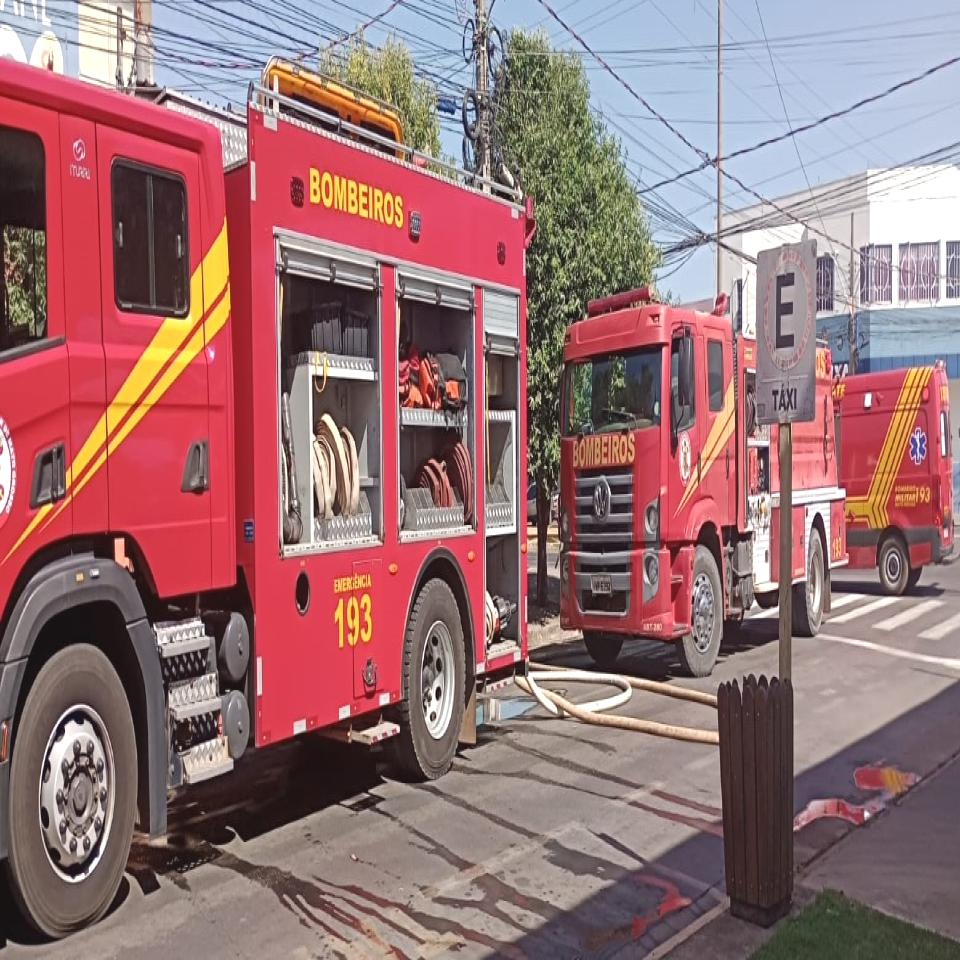bombeiro: (0, 44, 530, 942), (557, 280, 849, 677)
